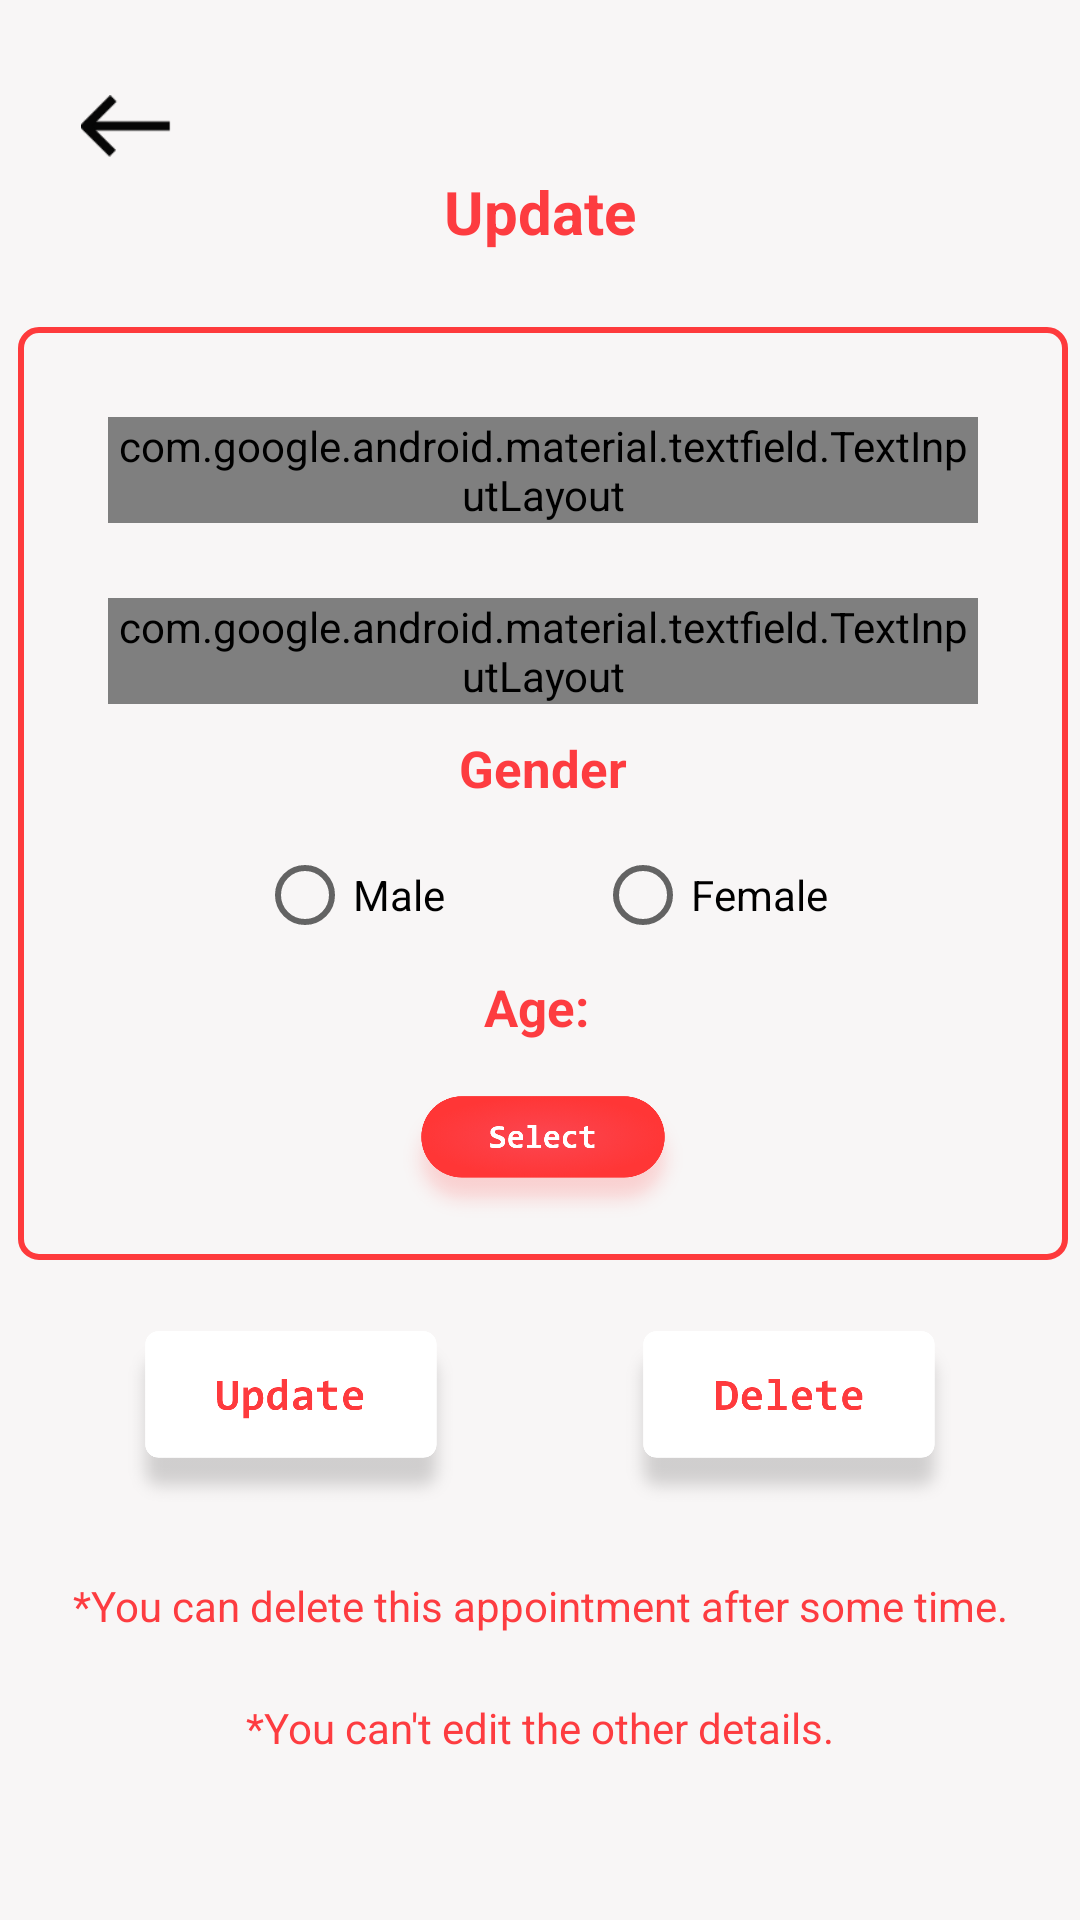

Point at icon controls on the screen. Image size 1080px×1920px, points as point (x, y).
back arrow: point (125, 126)
